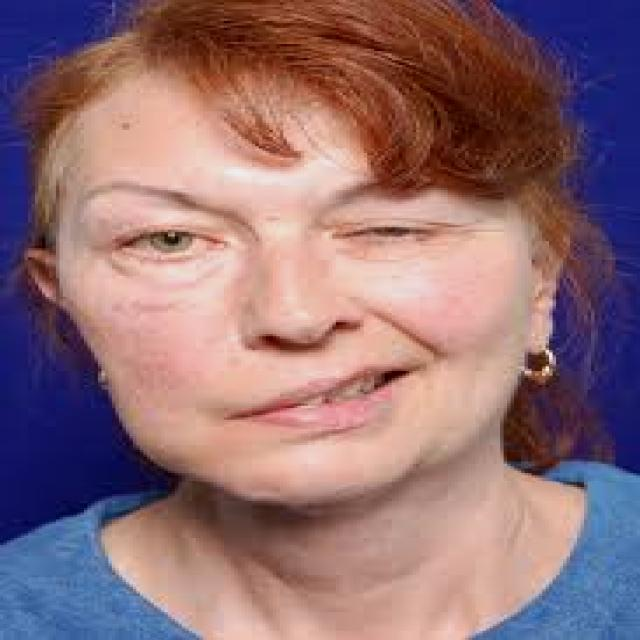stroke_face: (38, 52, 590, 536)
